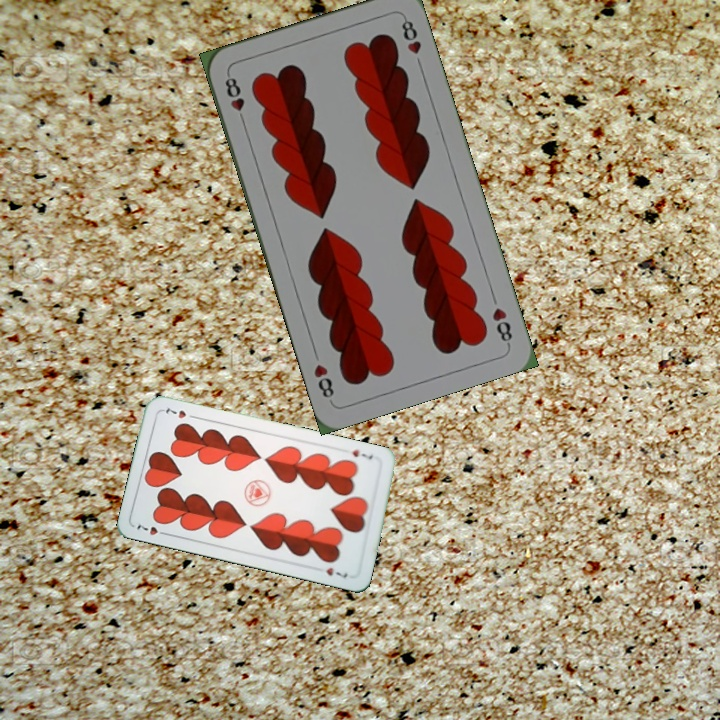H7: (133, 521, 171, 538), (348, 446, 375, 462)
H8: (220, 70, 249, 128), (487, 303, 515, 348)
